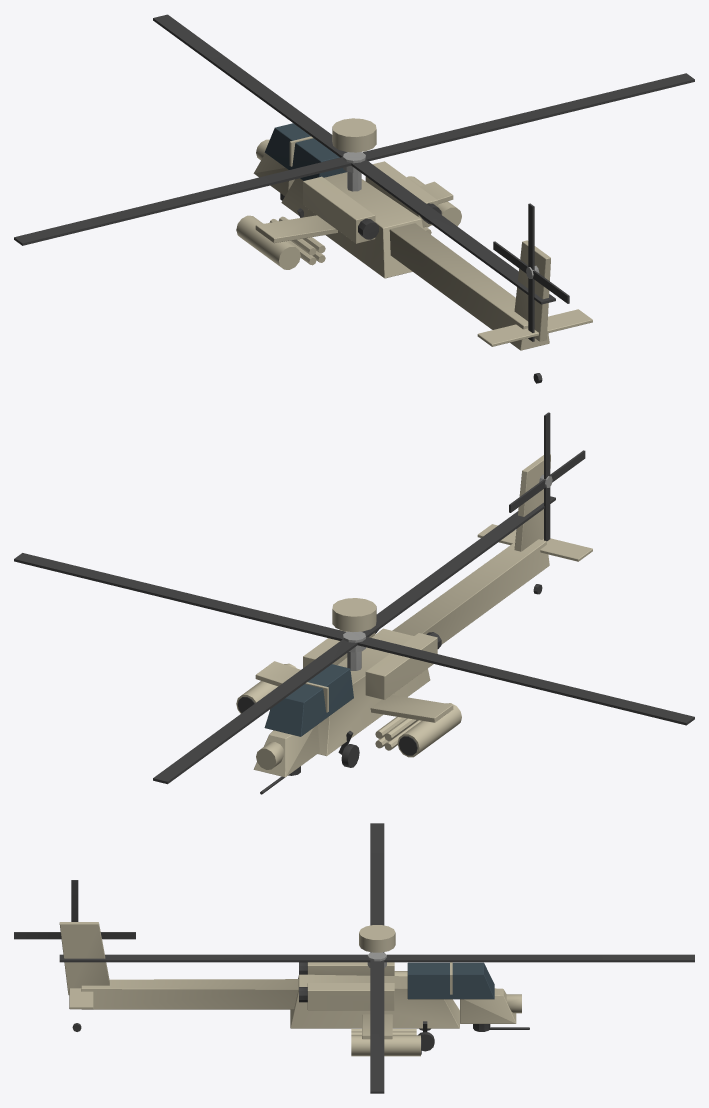
File: usa_heli_ah64d.glb
3 renders of one model, top to bottom at view 1: azimuth 30°, elevation 25°; view 2: azimuth 150°, elevation 25°; view 3: azimuth 270°, elevation 25°, orthographic. The views are drawn at different scales.
Visible parts, largest first — view 1: body, rotor, trotor; view 2: body, rotor, trotor; view 3: body, rotor, trotor.
Part boxes in pixels (<box>): body: <box>236,118,592,383</box>; rotor: <box>14,14,694,304</box>; trotor: <box>493,203,569,341</box>; body: <box>236,454,592,794</box>; rotor: <box>14,496,694,784</box>; trotor: <box>509,412,585,541</box>; body: <box>59,922,529,1056</box>; rotor: <box>59,823,694,1093</box>; trotor: <box>14,880,135,939</box>.
Size of the model in its own units: 14.6 by 3.97 by 15.65.
